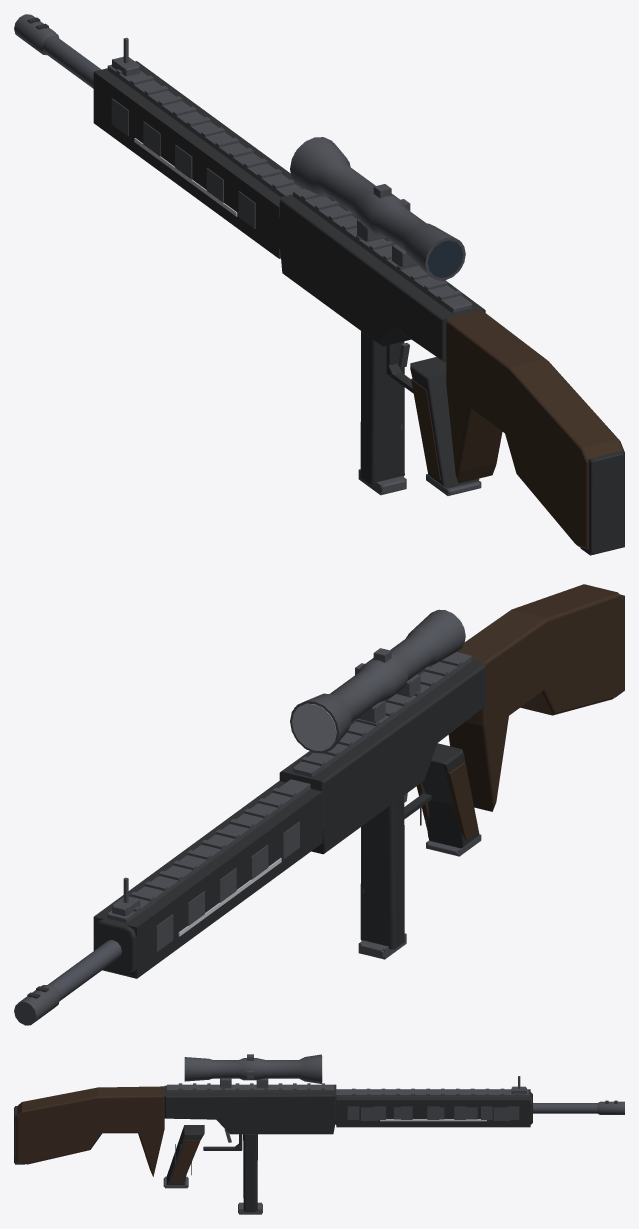
File: b_meridian.glb
The picture shows the model from 3 angles, top to bottom: view 1: azimuth 30°, elevation 25°; view 2: azimuth 150°, elevation 25°; view 3: azimuth 270°, elevation 25°; orthographic projection. The views are drawn at different scales.
Visible parts, largest first — view 1: L0, L1; view 2: L0, L1; view 3: L0, L1.
Part boxes in pixels (x1=…): L0: x1=14, y1=14, x2=624, y2=554; L1: x1=15, y1=15, x2=624, y2=555; L0: x1=14, y1=584, x2=624, y2=1025; L1: x1=14, y1=595, x2=624, y2=1025; L0: x1=14, y1=1054, x2=624, y2=1213; L1: x1=15, y1=1054, x2=624, y2=1214.
Size of the model in its own units: 0.052 by 0.3 by 1.07.
